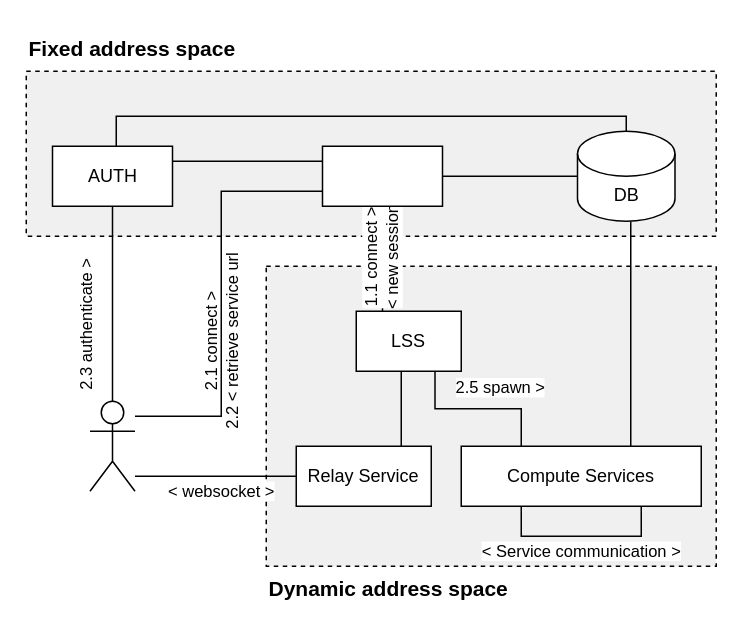
Image size: 743x636. Some labels were removed from this diagram. The centre of each missing label's shape, as x and y in pixels:
"GSS" belongs at (381,175).
"UI Frontend (Private address space)" belongs at (111,445).
